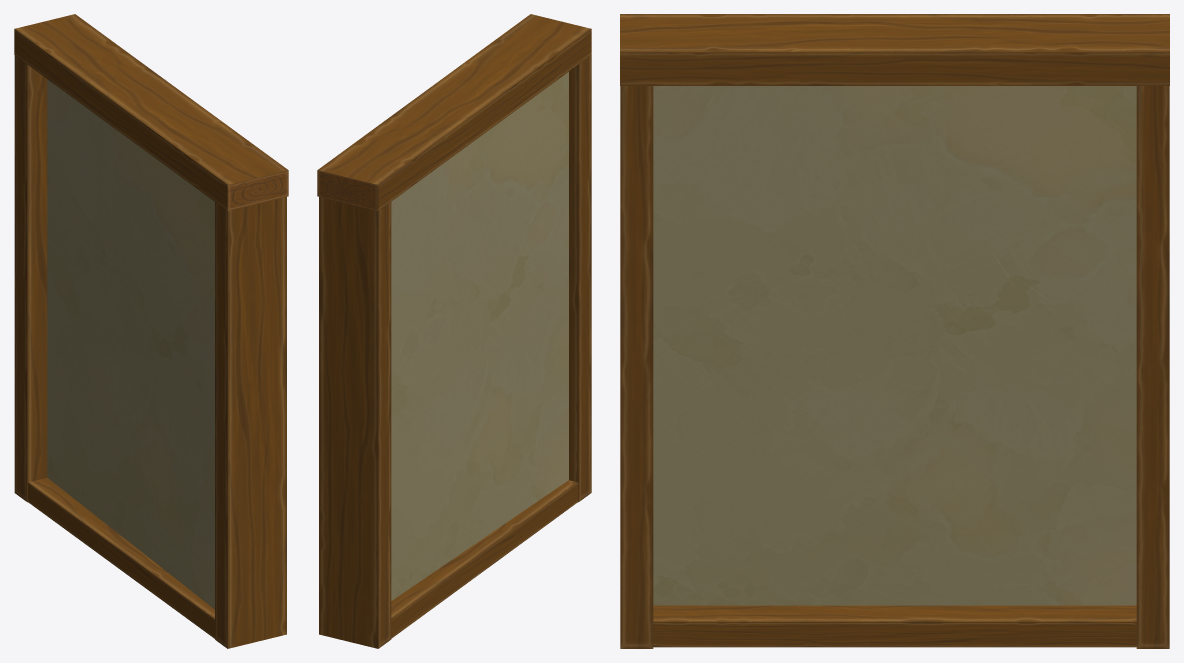
Rendered from SM_House_Roof_01_WallMiddle_A_02.fbx.
The picture shows the model from 3 angles, left to right: view 1: azimuth 30°, elevation 25°; view 2: azimuth 150°, elevation 25°; view 3: azimuth 270°, elevation 25°; orthographic projection. The views are drawn at different scales.
Parts seen in each view (by area): view 1: SM_House_Roof_01_WallMiddle_A_02; view 2: SM_House_Roof_01_WallMiddle_A_02; view 3: SM_House_Roof_01_WallMiddle_A_02.
Part boxes in pixels (x1,y1,x2,y2): SM_House_Roof_01_WallMiddle_A_02: [14, 14, 288, 648]; SM_House_Roof_01_WallMiddle_A_02: [317, 14, 591, 648]; SM_House_Roof_01_WallMiddle_A_02: [620, 14, 1169, 648].
Size of the model in its own units: 0.4117 by 3 by 2.5.
